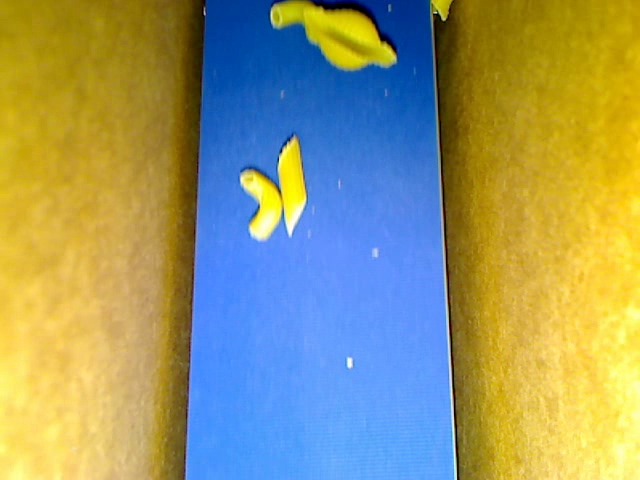elbow: (239, 166, 283, 242), (269, 1, 319, 46)
penne: (278, 134, 307, 236)
shell: (302, 4, 397, 72)
